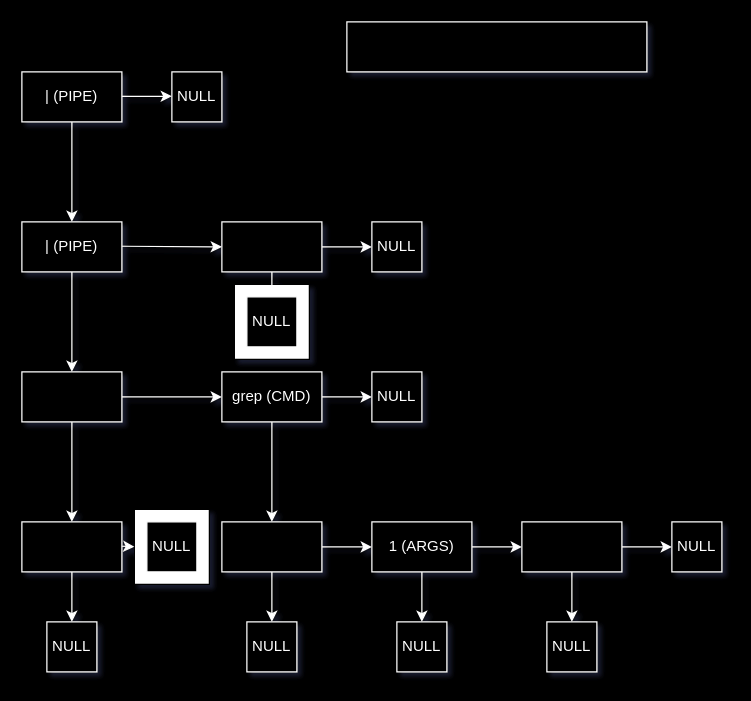
Image size: 751x701. Some labels were removed from this diagram. The shapes that lost their labels are listed below. From the top down, each one's box as (x1, y1, x2, y2) in pixels, then its label:
(346, 21, 647, 72): yes hi | grep -m 1 "h" | cat
(221, 221, 322, 272): cat (CMD)
(21, 371, 122, 422): yes (CMD)
(21, 521, 122, 572): hi (ARGS)
(221, 521, 322, 572): -m (ARGS)
(521, 521, 622, 572): h (ARGS)
